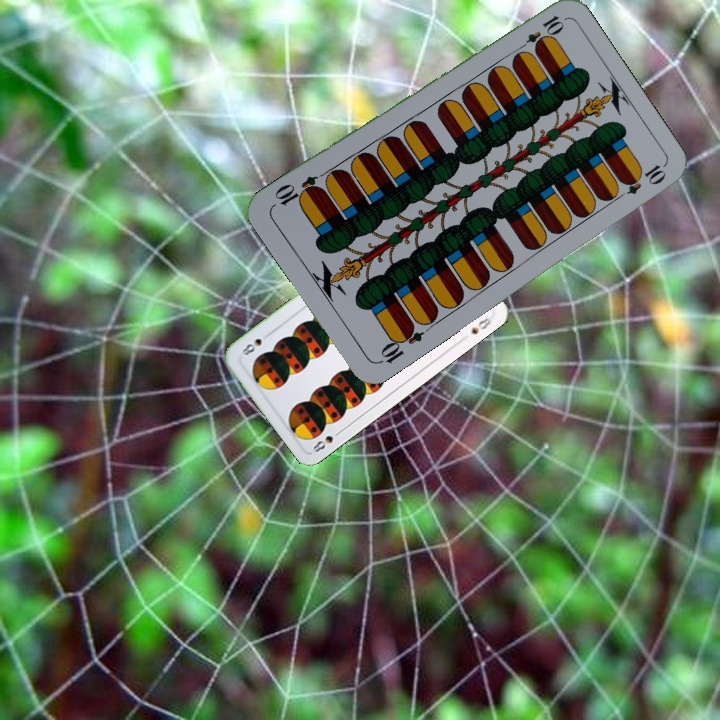E10: (374, 320, 426, 367), (513, 11, 566, 55)
S8: (308, 426, 345, 455)
